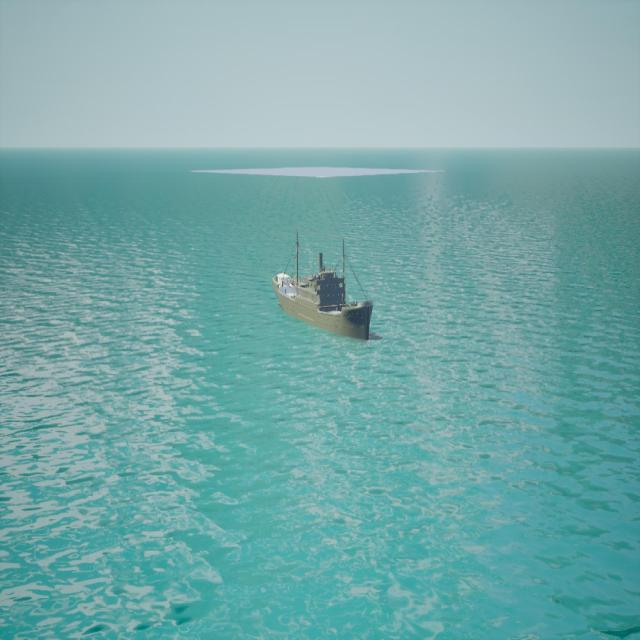fishing ship: (274, 234, 377, 346)
